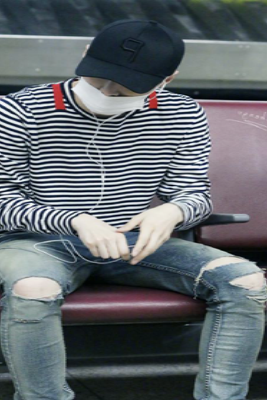mask_weared_incorrect: (68, 77, 157, 117)
